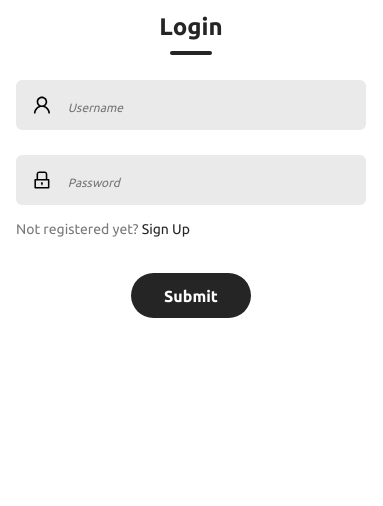
Test: sign up form
Click the text with test id "toSignUpButton" at (166, 229), box [142,221,190,237]
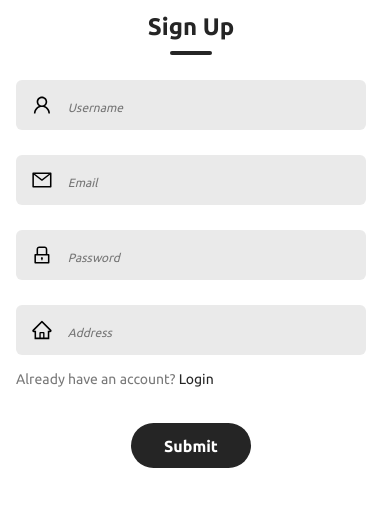
Check: the field with placeholder "Email" is shown, box [68,155,366,205]
Type "testuser" into the field with placeholder "Username" at (217, 105), box [68,80,366,130]
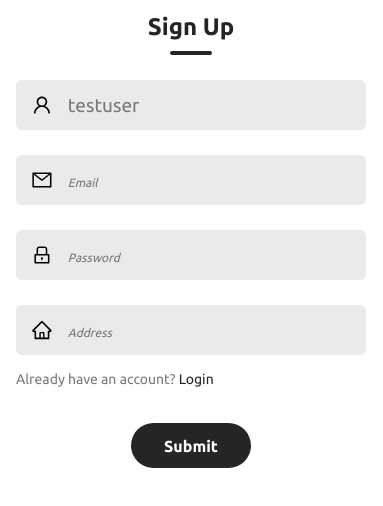
Type "testuser@example.com" into the field with placeholder "Email" at (217, 180), box [68,155,366,205]
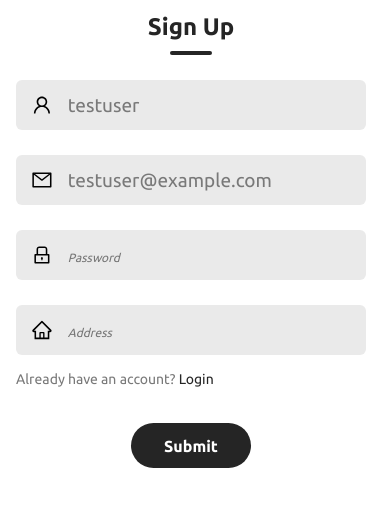
Type "testpassword" into the password field with placeholder "Password" at (217, 255), box [68,230,366,280]
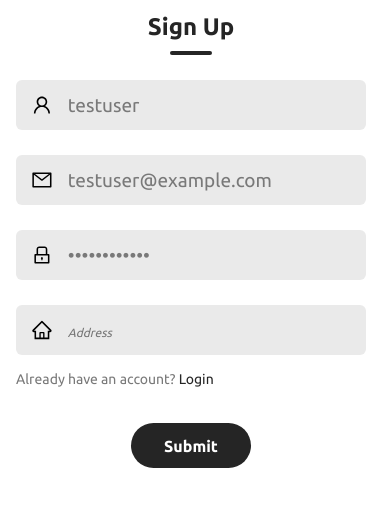
Type "testaddress" into the field with placeholder "Address" at (217, 330), box [68,305,366,355]
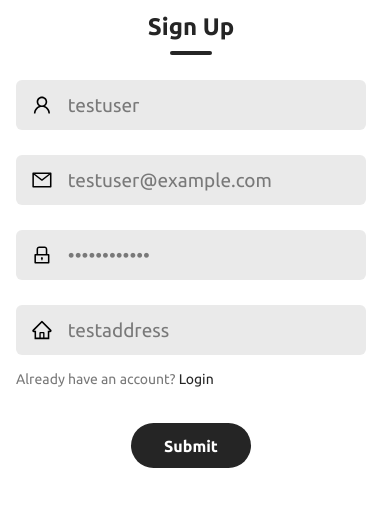
Click the button "Submit" at (191, 446), box [131,423,251,468]
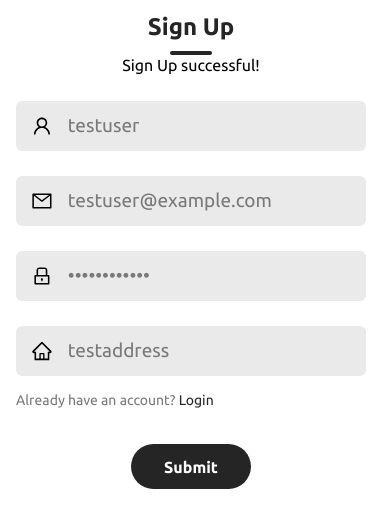
Check: the text "Sign Up successful!" is shown, box [122,55,260,76]
